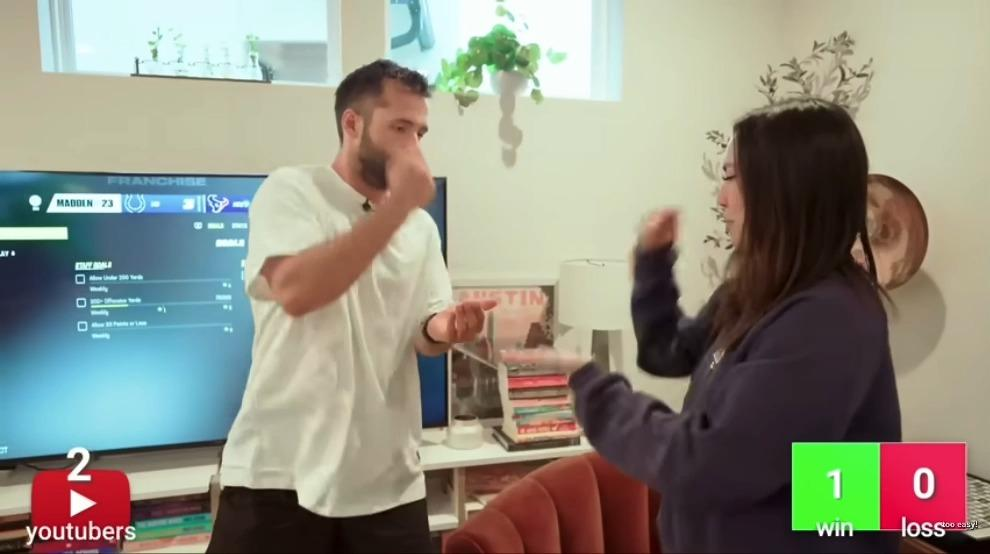Rock: (387, 142, 438, 222), (636, 206, 681, 252)
